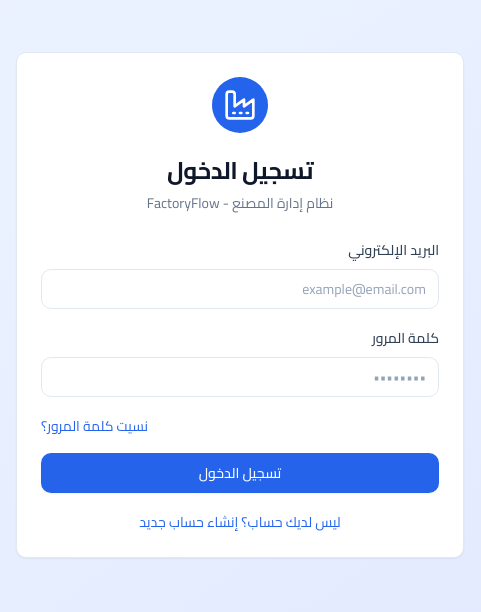
LoginPage › Mode Toggle › switches back to login mode
Note: Switch to signup
Click the button "ليس لديك حساب؟ إنشاء حساب جديد" at [240, 522], box x1=139 y1=512 x2=341 y2=532
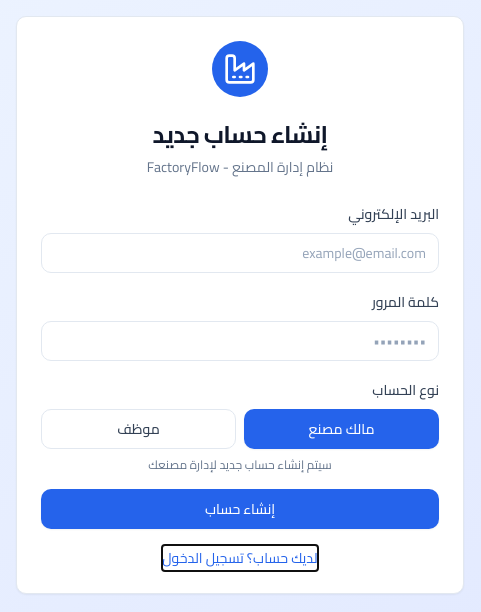
Now the heading "إنشاء حساب جديد" is shown, box x1=152 y1=112 x2=327 y2=157
Note: Switch back to login
Click the button "لديك حساب؟ تسجيل الدخول" at [240, 558], box x1=162 y1=548 x2=318 y2=568
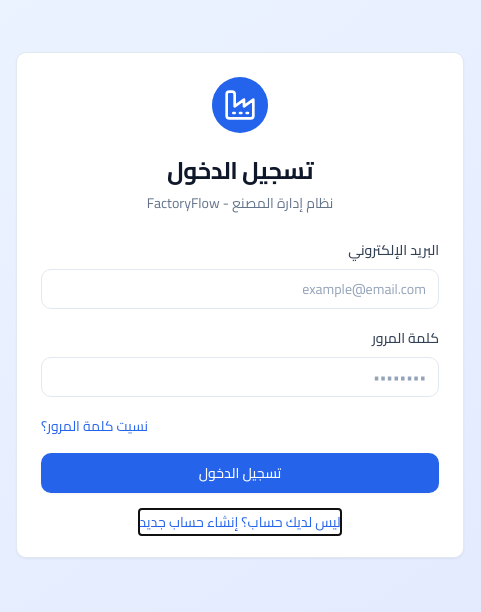
Now the heading "تسجيل الدخول" is shown, box x1=167 y1=148 x2=313 y2=193
